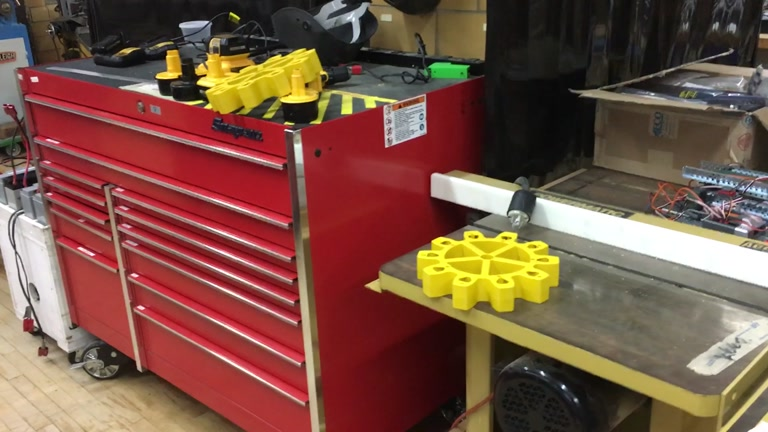gear: (416, 227, 560, 314), (205, 47, 324, 115)
